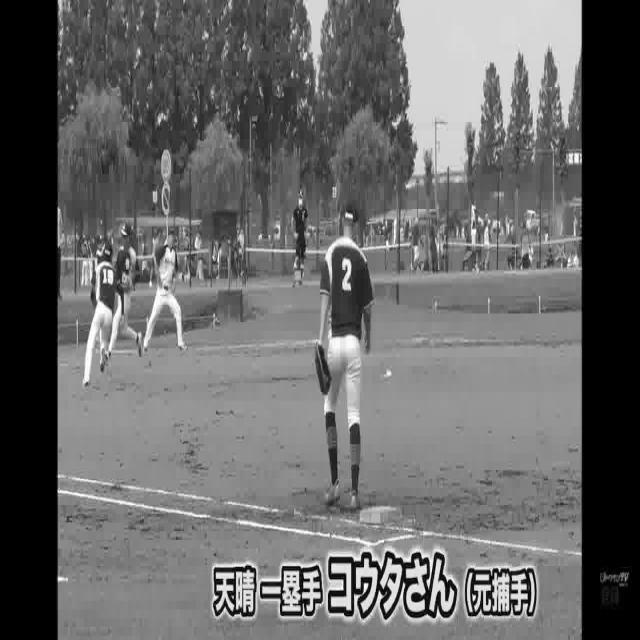base: (358, 498, 402, 526)
baseball_glove: (315, 339, 333, 397)
shoe: (320, 475, 345, 510), (346, 485, 363, 512), (134, 329, 147, 359), (96, 343, 105, 377), (175, 338, 189, 352), (82, 371, 89, 391)
